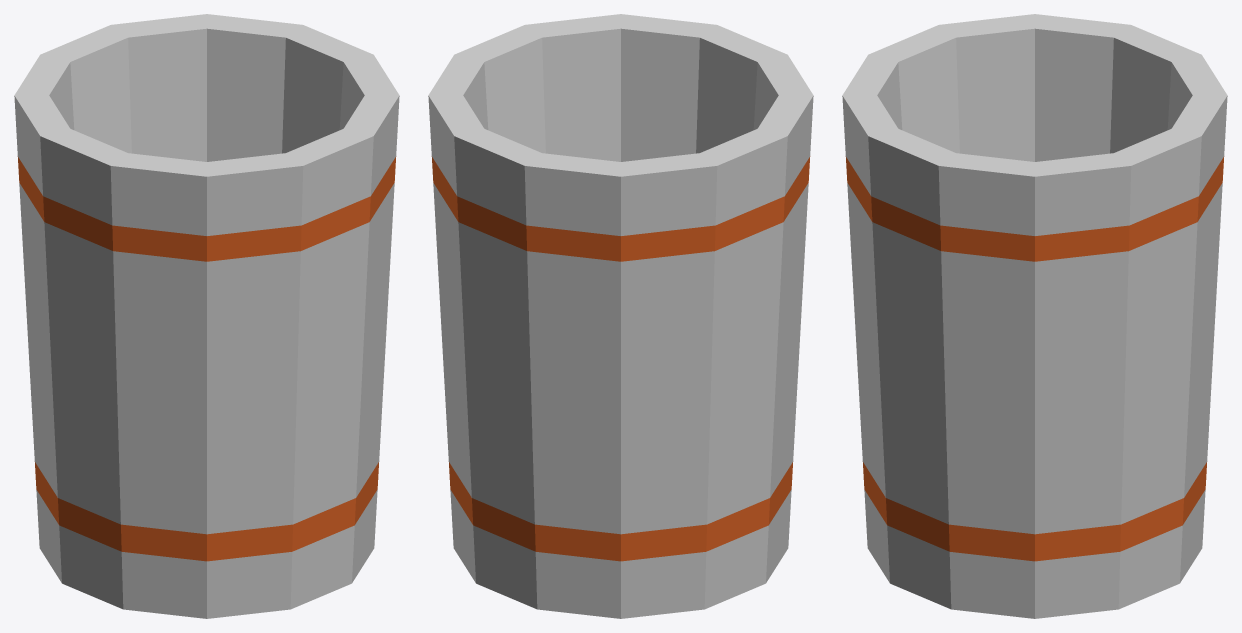
File: Empty Can.fbx
3 renders of one model, left to right at view 1: azimuth 30°, elevation 25°; view 2: azimuth 150°, elevation 25°; view 3: azimuth 270°, elevation 25°, orthographic.
Parts seen in each view (by area): view 1: Cylinder; view 2: Cylinder; view 3: Cylinder.
Part boxes in pixels (bbox=[...]): Cylinder: bbox=[14, 14, 399, 618]; Cylinder: bbox=[428, 14, 813, 618]; Cylinder: bbox=[842, 14, 1227, 618].
Size of the model in its own units: 230 by 299 by 230.
